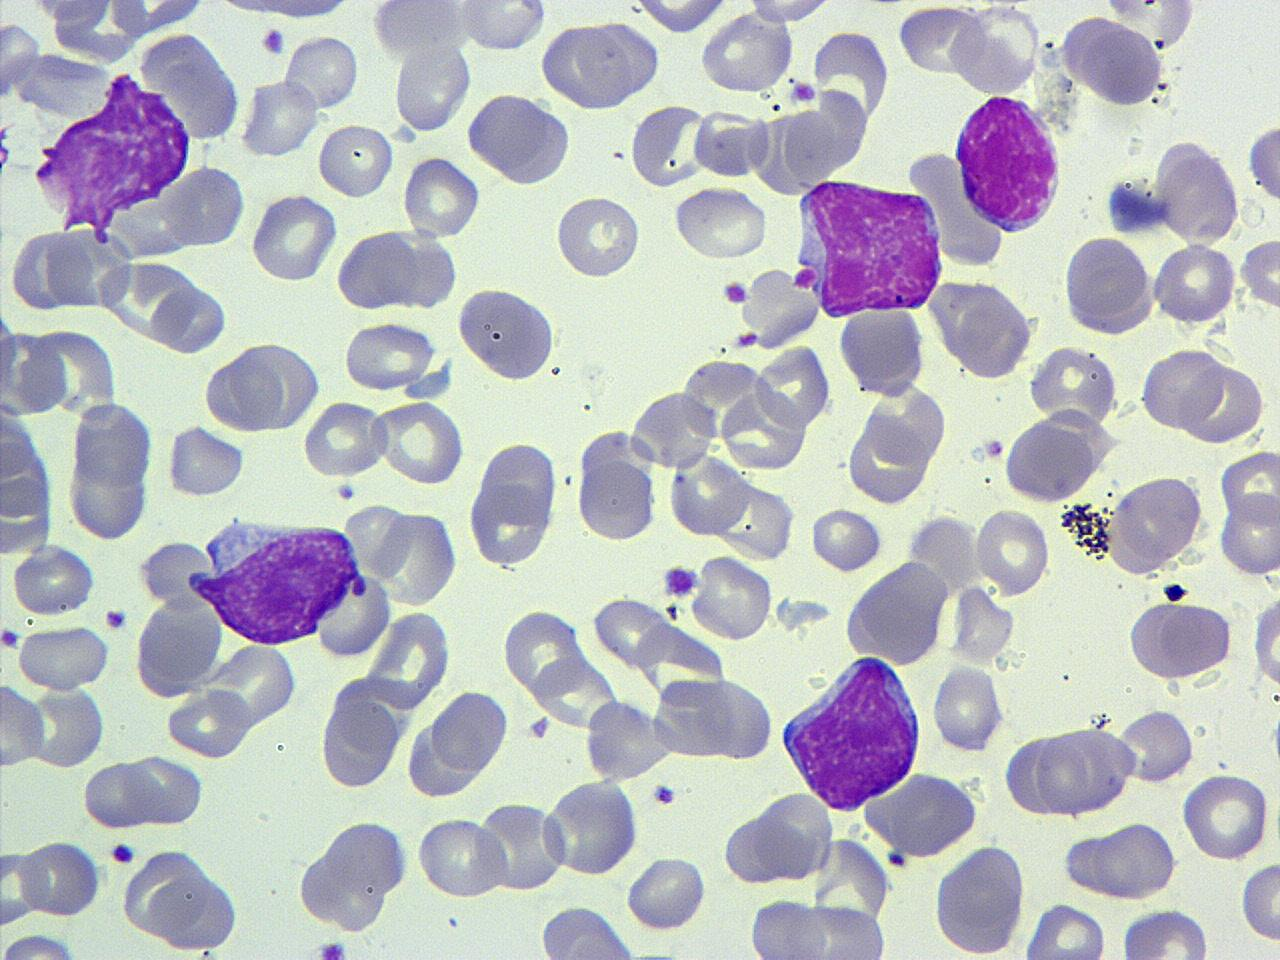Platelets: (1103, 178, 1169, 236), (400, 365, 454, 400), (661, 562, 701, 600), (259, 25, 287, 56), (108, 842, 138, 868), (788, 79, 818, 104), (526, 713, 552, 741), (722, 280, 750, 306), (1161, 580, 1189, 604), (316, 939, 347, 960), (792, 266, 819, 290), (650, 782, 676, 806), (102, 608, 128, 632), (982, 434, 1008, 458), (733, 330, 759, 350), (1, 626, 21, 652), (335, 480, 356, 502), (1269, 718, 1280, 758), (886, 848, 904, 867), (666, 602, 680, 622), (1152, 34, 1166, 51)
RBC: (466, 437, 562, 568), (844, 558, 950, 668), (926, 277, 1037, 382), (930, 840, 1028, 958), (861, 769, 981, 860), (1103, 473, 1207, 576), (998, 411, 1110, 506), (130, 592, 226, 702), (1059, 234, 1159, 339), (455, 285, 560, 382), (541, 778, 640, 876), (226, 340, 326, 434), (373, 505, 461, 610), (367, 606, 454, 712), (538, 19, 636, 113), (844, 407, 934, 507), (1126, 598, 1230, 683), (836, 304, 928, 398), (120, 844, 208, 942), (100, 257, 200, 343), (1036, 725, 1128, 817), (1180, 770, 1272, 862), (373, 397, 466, 488), (248, 191, 339, 284), (476, 798, 564, 894), (65, 443, 150, 542), (29, 324, 117, 419), (952, 3, 1042, 95), (698, 8, 791, 97), (1081, 15, 1167, 111), (44, 219, 134, 310), (1025, 342, 1117, 430), (650, 671, 737, 763), (319, 692, 400, 790), (553, 193, 643, 281), (414, 812, 502, 901), (1158, 153, 1242, 246), (690, 552, 775, 643), (1180, 358, 1266, 447), (582, 698, 672, 783), (670, 183, 768, 261), (71, 400, 154, 492), (155, 864, 241, 952), (1139, 345, 1225, 433), (431, 686, 511, 779), (755, 788, 834, 882), (1088, 818, 1178, 900), (392, 40, 471, 133), (628, 386, 714, 471), (974, 504, 1051, 598), (719, 391, 808, 472), (400, 151, 481, 240), (752, 340, 832, 430), (314, 568, 392, 660), (202, 349, 285, 435), (575, 456, 658, 542), (742, 263, 822, 352), (502, 606, 582, 695), (1152, 242, 1236, 326), (669, 452, 750, 539), (533, 654, 621, 734), (696, 672, 776, 760), (29, 680, 108, 769), (333, 228, 416, 312), (340, 320, 438, 391), (930, 662, 1005, 754), (630, 101, 708, 189), (238, 75, 320, 158), (582, 18, 662, 103), (17, 836, 102, 916), (1006, 732, 1084, 818), (716, 481, 797, 563), (895, 3, 985, 76), (302, 399, 384, 479), (316, 120, 396, 202), (15, 623, 111, 691), (137, 534, 220, 612), (148, 277, 229, 356), (9, 542, 95, 616), (282, 32, 361, 111), (1116, 706, 1196, 784), (625, 855, 706, 932), (1, 326, 67, 420), (165, 690, 252, 761), (164, 422, 245, 498), (123, 752, 206, 826), (367, 1, 472, 57), (536, 902, 638, 958), (592, 596, 671, 667), (692, 106, 766, 181), (950, 584, 1018, 664), (1216, 491, 1280, 576), (1118, 904, 1212, 960), (746, 896, 829, 959), (810, 505, 884, 574), (81, 760, 153, 830), (1220, 447, 1280, 530), (1020, 902, 1107, 958), (458, 0, 548, 53), (1100, 0, 1202, 41), (104, 0, 211, 37), (0, 682, 45, 768), (628, 0, 734, 36), (0, 847, 45, 928), (1239, 857, 1279, 945), (1239, 233, 1280, 312), (0, 18, 40, 97), (1247, 114, 1279, 212), (1251, 588, 1279, 694), (741, 0, 838, 26), (0, 930, 83, 960)
WBC: (778, 650, 925, 814), (794, 172, 946, 319), (198, 514, 360, 648), (952, 92, 1069, 237), (294, 813, 412, 934), (467, 439, 564, 573), (407, 686, 514, 802), (844, 558, 952, 669), (932, 841, 1029, 958), (930, 276, 1034, 384), (464, 90, 576, 188), (1106, 474, 1210, 578), (539, 18, 653, 111), (456, 285, 562, 384), (864, 769, 980, 859), (1061, 232, 1159, 338), (67, 420, 151, 540), (1000, 412, 1106, 507), (542, 780, 640, 878), (0, 399, 59, 561), (135, 592, 224, 697), (744, 898, 892, 960), (251, 190, 344, 287), (839, 302, 930, 399), (1126, 598, 1230, 682), (629, 386, 721, 476), (318, 694, 401, 792), (584, 699, 672, 784), (534, 904, 636, 960)
